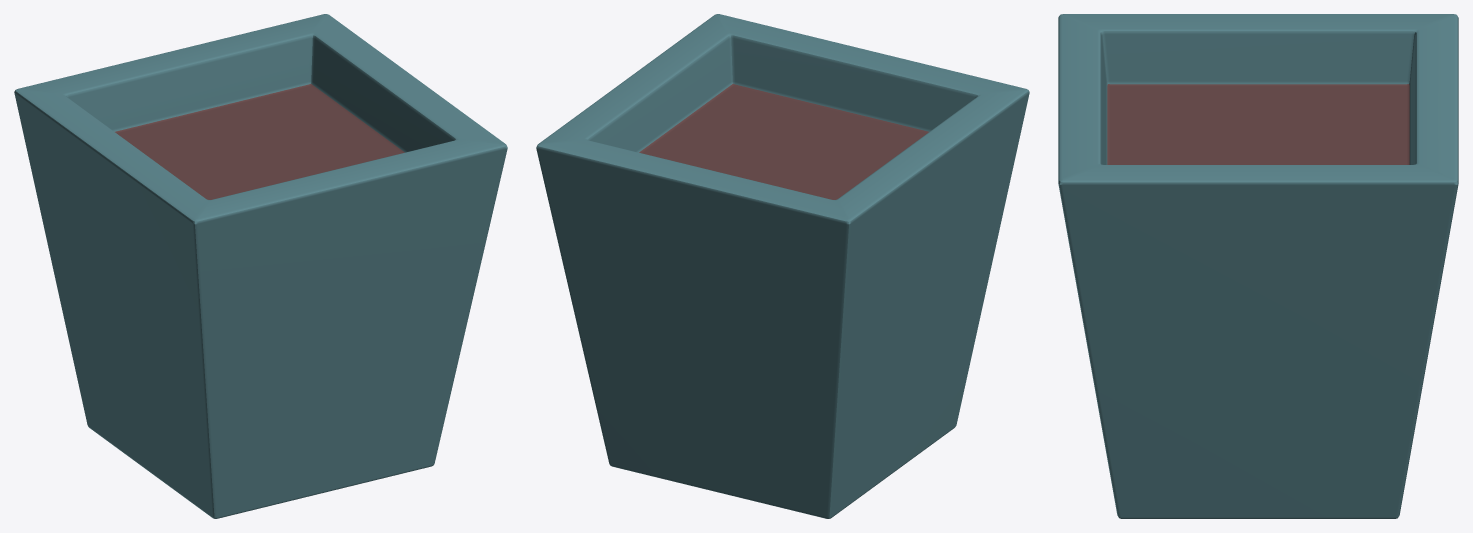
The model's file is Vase6.fbx.
3 renders of one model, left to right at view 1: azimuth 30°, elevation 25°; view 2: azimuth 150°, elevation 25°; view 3: azimuth 270°, elevation 25°, orthographic. The views are drawn at different scales.
Parts seen in each view (by area): view 1: Vase6; view 2: Vase6; view 3: Vase6.
Boxes of the visible parts, <box> form: Vase6: <box>14,14,507,518</box>; Vase6: <box>536,14,1029,518</box>; Vase6: <box>1058,14,1458,518</box>.
Size of the model in its own units: 0.997 by 1 by 0.997.
